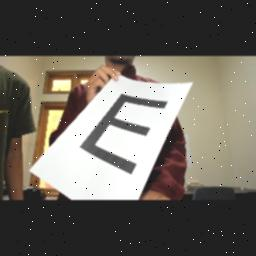e: (74, 88, 172, 178)
